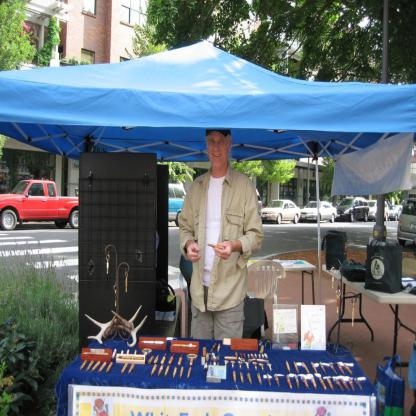Car: (167, 180, 416, 252), (0, 178, 81, 228)
